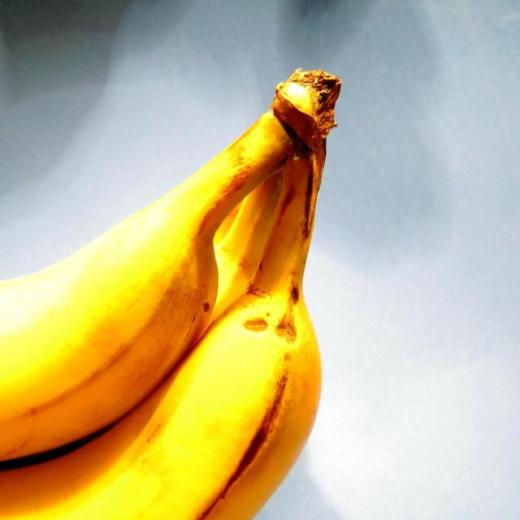Banana: (0, 136, 327, 520), (0, 139, 324, 520), (206, 165, 286, 331), (202, 166, 281, 334)
